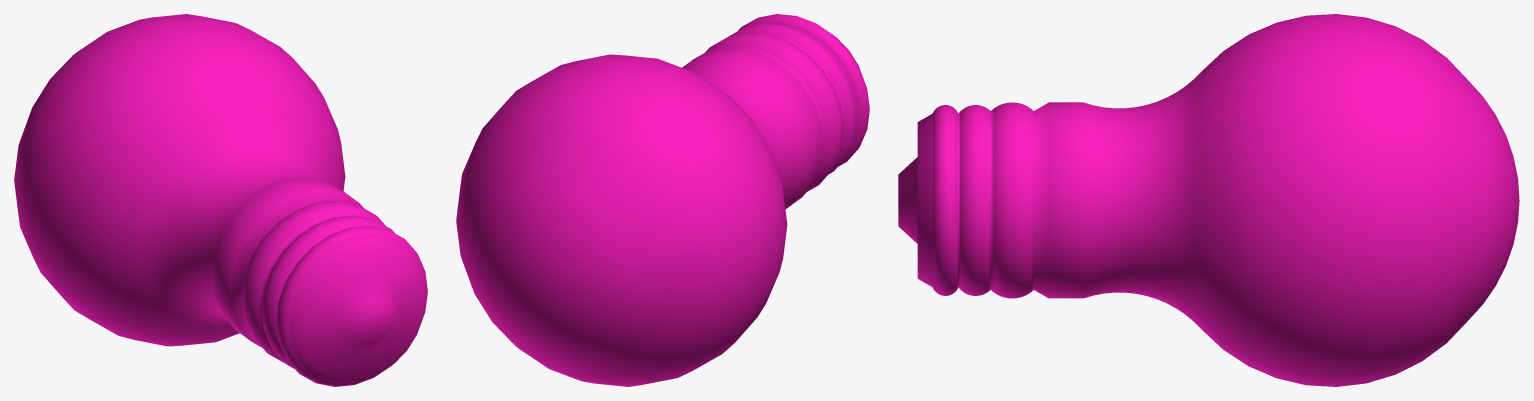
File: lightbulb1_5.dae
3 views of the same model, side by side, from view 1: azimuth 30°, elevation 25°; view 2: azimuth 150°, elevation 25°; view 3: azimuth 270°, elevation 25° (orthographic). The views are drawn at different scales.
Parts seen in each view (by area): view 1: lightbulb1_019; view 2: lightbulb1_019; view 3: lightbulb1_019.
Part boxes in pixels (x1,y1,x2,y2): lightbulb1_019: (14,14,427,386); lightbulb1_019: (456,14,869,386); lightbulb1_019: (898,14,1519,386).
Size of the model in its own units: 0.1122 by 0.1862 by 0.1122.
